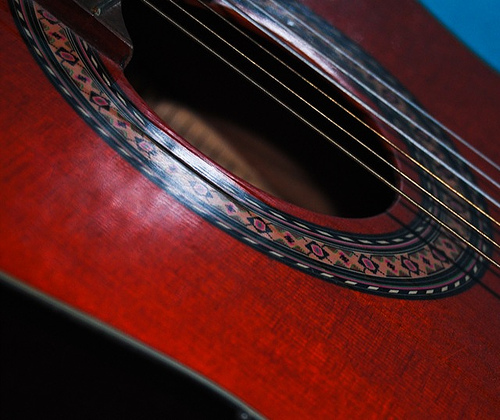guitar: (1, 1, 500, 420)
